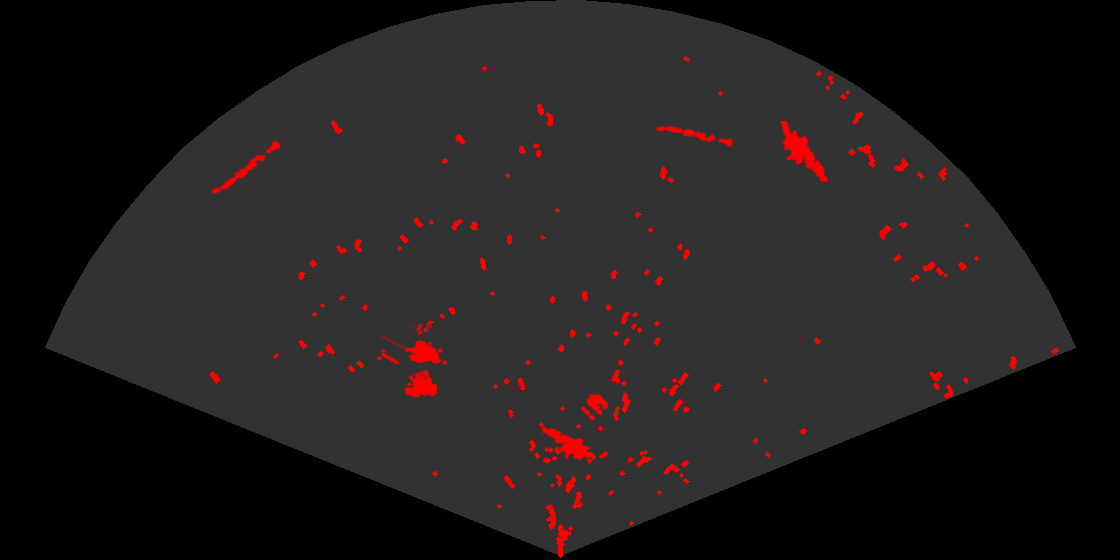ball: (580, 392, 610, 422)
cage: (382, 324, 449, 399)
chain: (210, 133, 291, 196), (654, 124, 737, 148)
frogman: (778, 121, 830, 185), (539, 425, 593, 462)
